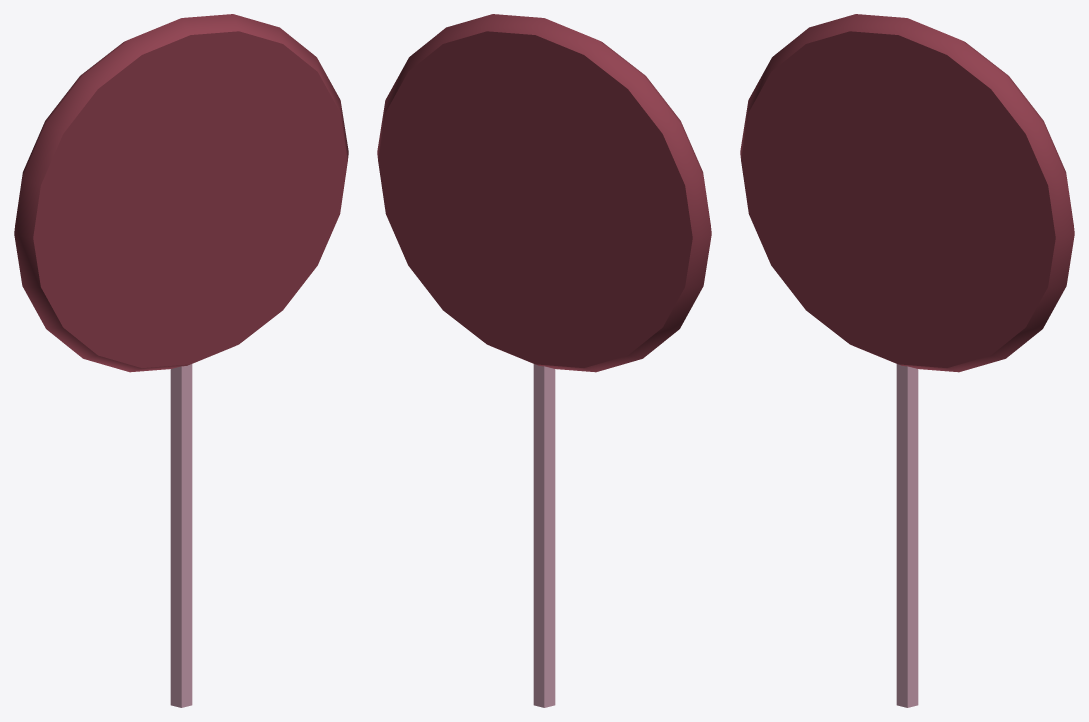
File: SwirlLolly.fbx
The picture shows the model from 3 angles, left to right: view 1: azimuth 30°, elevation 25°; view 2: azimuth 150°, elevation 25°; view 3: azimuth 330°, elevation 25°; orthographic projection.
Visible parts, largest first — view 1: SwirlyPop; view 2: SwirlyPop; view 3: SwirlyPop.
Part boxes in pixels (x1,y1,x2,y2): SwirlyPop: (14,14,348,707); SwirlyPop: (377,14,711,707); SwirlyPop: (740,14,1074,707).
Bounding box in the file's own units: 3.01 × 5.88 × 0.2809.
